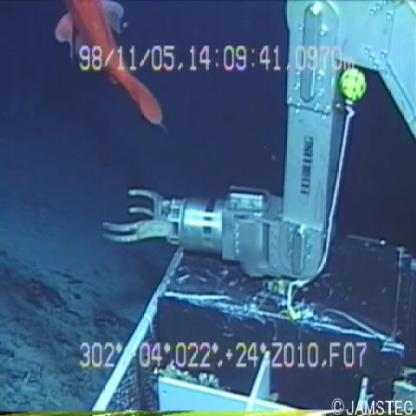Bio: (48, 1, 171, 143)
Rov: (99, 3, 416, 412)
